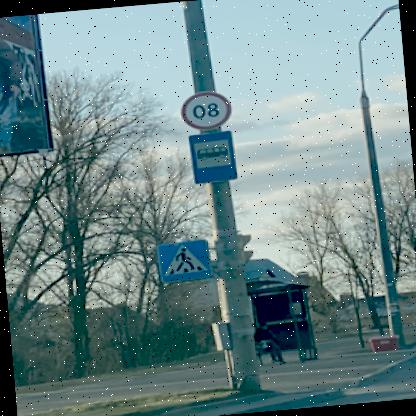crosswalk: (158, 236, 216, 282)
speedlimit: (182, 89, 238, 131)
